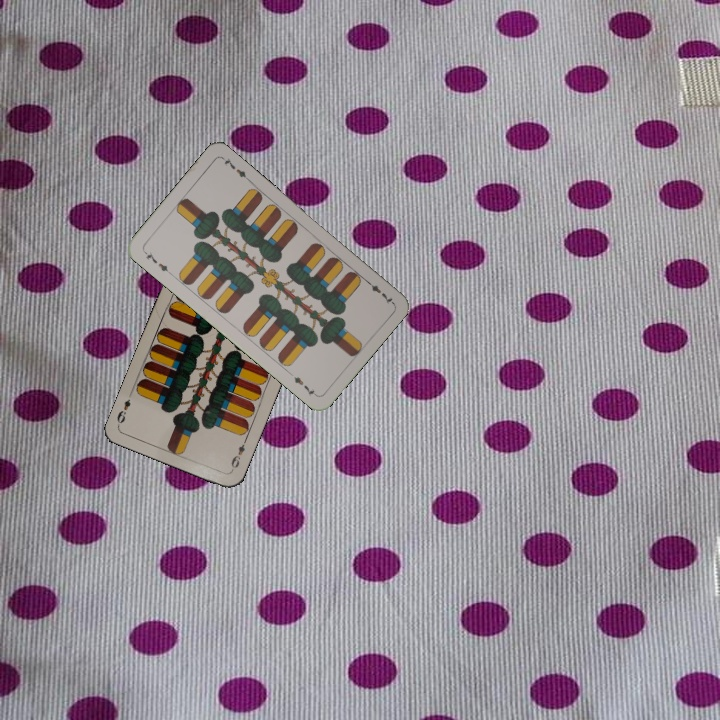E7: (361, 276, 396, 307), (140, 247, 174, 277)
E9: (227, 435, 249, 474)
